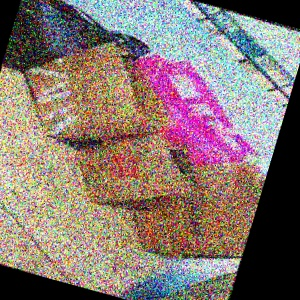bershka: (40, 71, 282, 300)
zara: (84, 21, 130, 109)
